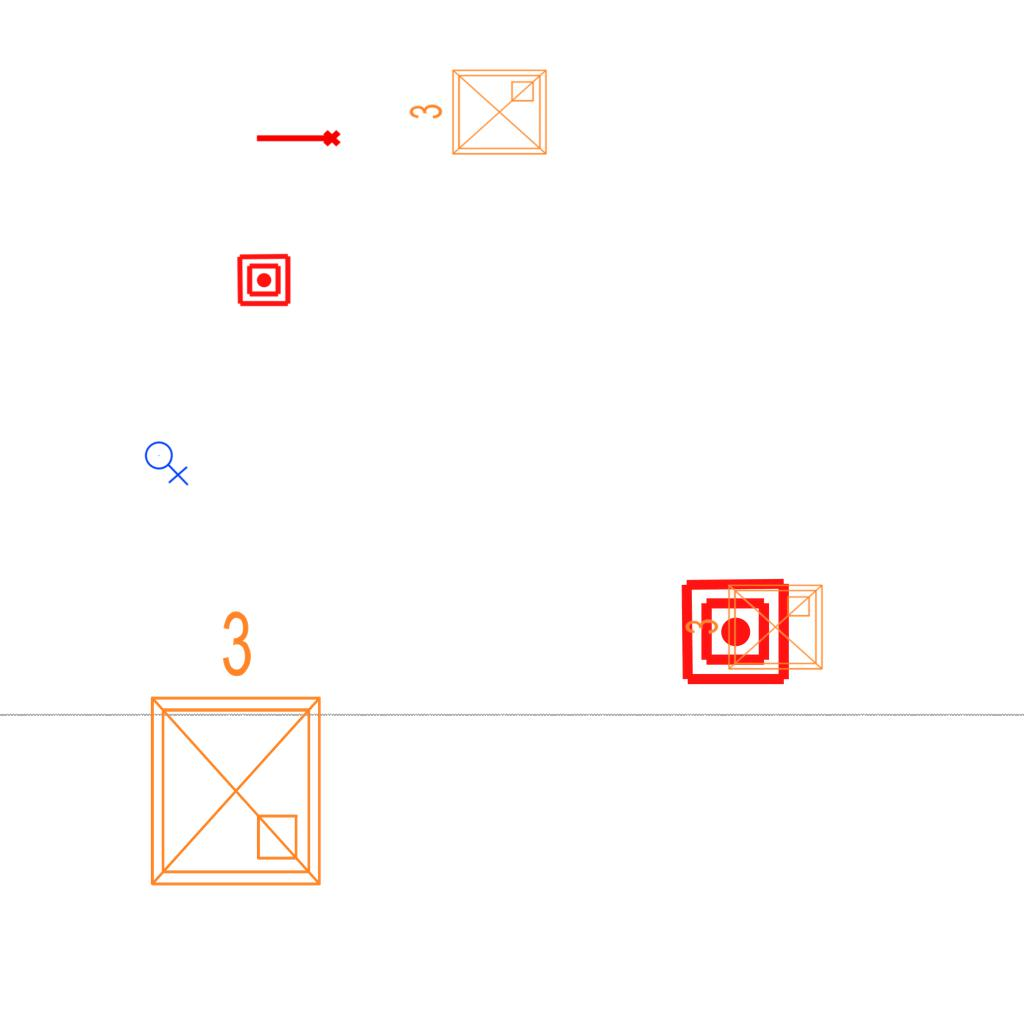ASR_Ansaugoeffnung: (254, 128, 342, 151)
Einbaudownlights_LED_Konferenzraeume: (128, 600, 336, 900), (404, 62, 554, 166), (680, 577, 830, 681)
Elektroanschluss_allgemein_230V_Geraeteanschlussdose_230V: (144, 437, 191, 486)
NAM-Nichtautomatischer_Melder: (679, 575, 792, 688), (236, 252, 292, 308)
